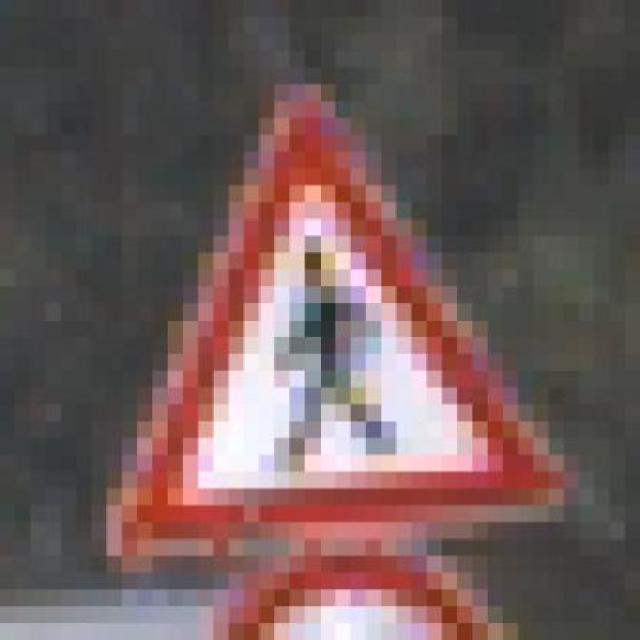Pedestrian Crossing: (85, 50, 558, 539)
